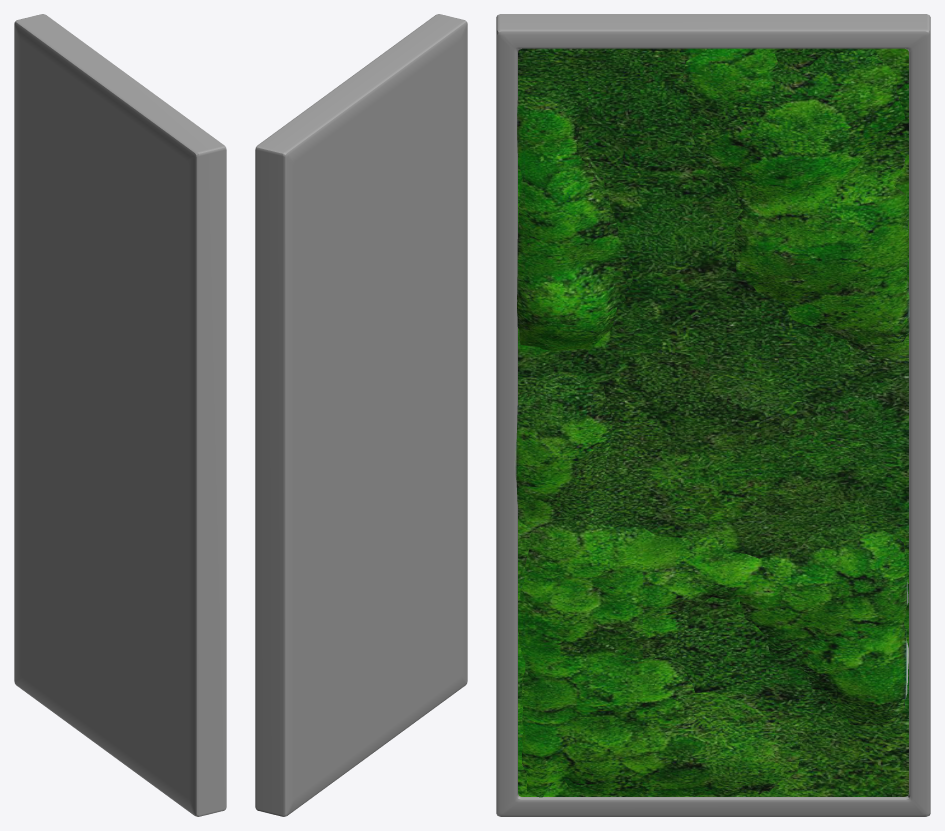
The model's file is Moosbild_Hugelmoos_600x300mm_white.fbx.
The picture shows the model from 3 angles, left to right: view 1: azimuth 30°, elevation 25°; view 2: azimuth 150°, elevation 25°; view 3: azimuth 270°, elevation 25°; orthographic projection. The views are drawn at different scales.
Visible parts, largest first — view 1: edge; view 2: edge; view 3: moss9, moss_low, edge.
Part boxes in pixels (x1=…): edge: x1=14, y1=14, x2=226, y2=816; edge: x1=255, y1=14, x2=467, y2=816; moss9: x1=514, y1=48, x2=909, y2=797; moss_low: x1=518, y1=48, x2=908, y2=796; edge: x1=496, y1=14, x2=930, y2=816.
Bounding box in the file's own units: 4.52 × 60 × 30.
Materials: 2 (1 with a texture image).
